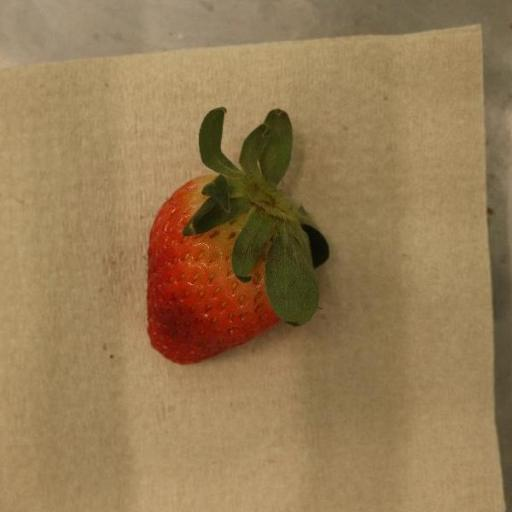Strawberry: (147, 108, 331, 366)
